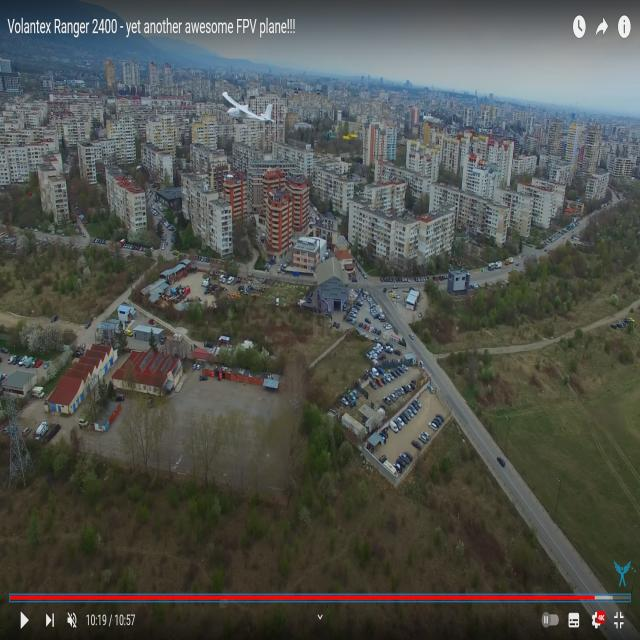iha: (221, 27, 276, 58)
